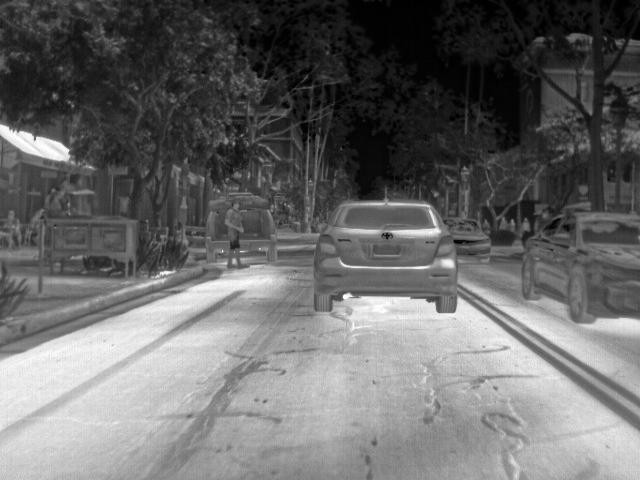car: (312, 196, 460, 313), (520, 210, 640, 321), (444, 214, 494, 260), (253, 190, 280, 264), (205, 194, 223, 264)
person: (225, 199, 253, 268), (3, 207, 25, 248), (521, 216, 532, 232), (498, 216, 510, 230), (509, 216, 517, 232)
